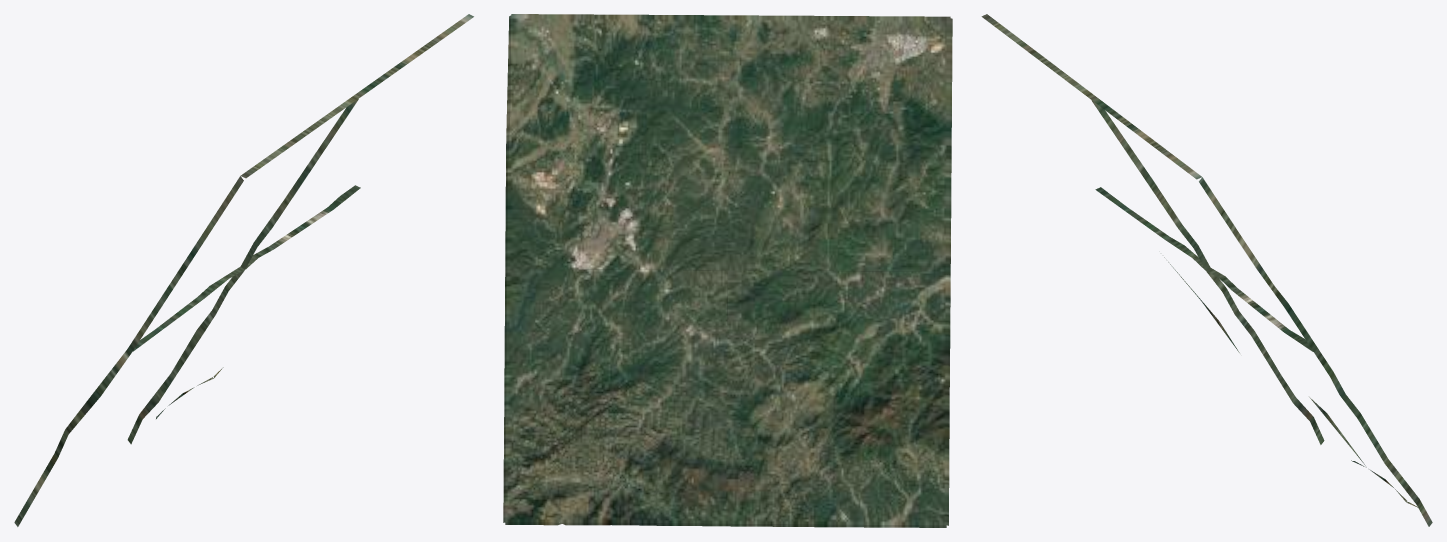
3 renders of one model, left to right at view 1: azimuth 30°, elevation 25°; view 2: azimuth 150°, elevation 25°; view 3: azimuth 270°, elevation 25°, orthographic.
Size of the model in its own units: 79029 by 68160 by 68957.
Materials: 1 (1 with a texture image).
